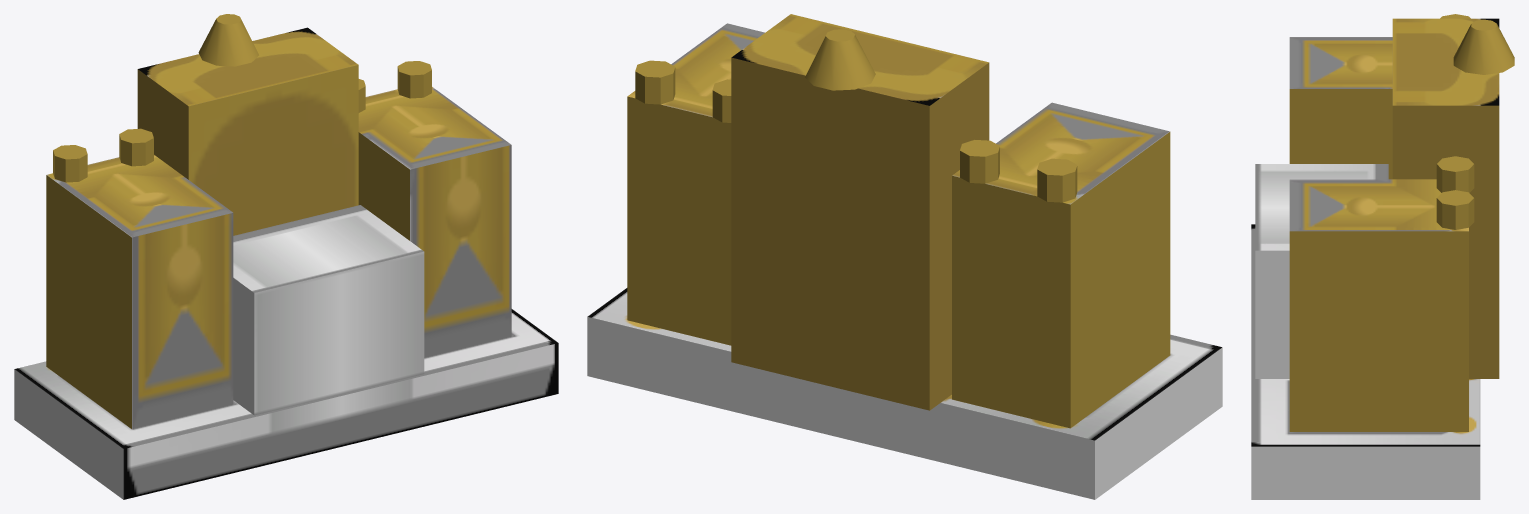
The model's file is Building_Reliquary.obj.
3 renders of one model, left to right at view 1: azimuth 30°, elevation 25°; view 2: azimuth 150°, elevation 25°; view 3: azimuth 270°, elevation 25°, orthographic. The views are drawn at different scales.
Parts seen in each view (by area): view 1: Body; view 2: Body; view 3: Body.
Boxes of the visible parts, left/top/right/bottom form: Body: left=14, top=14, right=558, bottom=499; Body: left=587, top=14, right=1222, bottom=499; Body: left=1251, top=14, right=1514, bottom=499.
Bounding box in the file's own units: 1.97 × 1.5 × 0.9856.
Materials: 1 (1 with a texture image).
